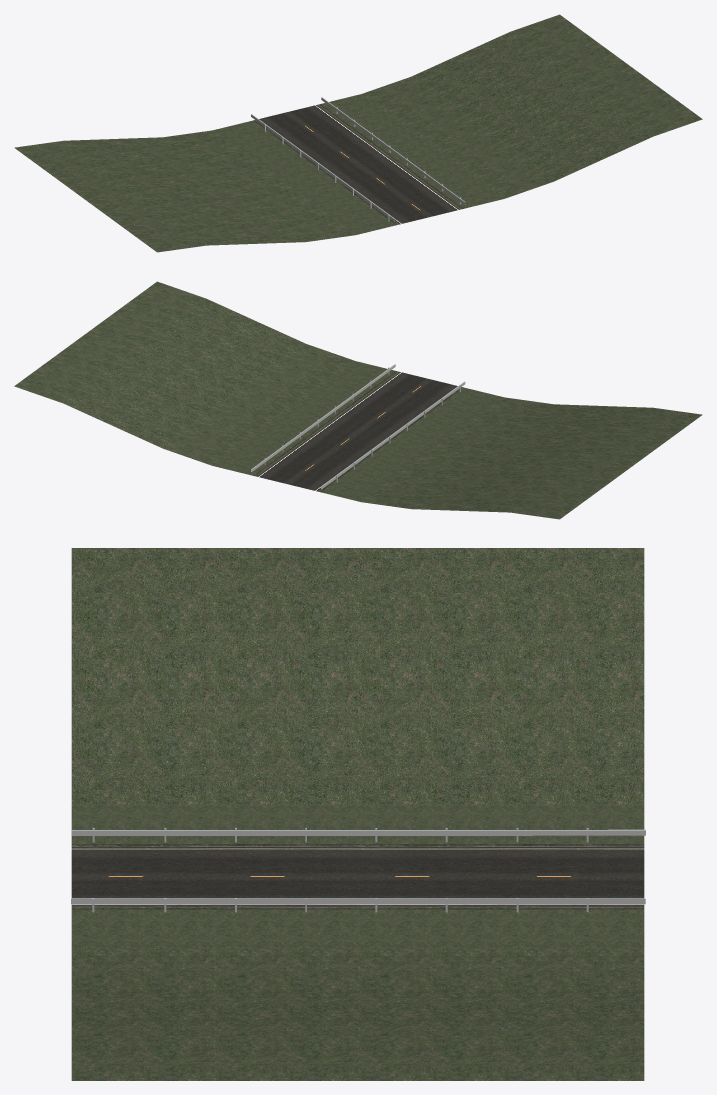
The picture shows the model from 3 angles, top to bottom: view 1: azimuth 30°, elevation 25°; view 2: azimuth 150°, elevation 25°; view 3: azimuth 270°, elevation 25°; orthographic projection. The views are drawn at different scales.
Parts seen in each view (by area): view 1: Grass, HighWay, GuardRail; view 2: Grass, HighWay, GuardRail; view 3: Grass, HighWay, GuardRail.
Boxes of the visible parts, box(x1,y1,x2,y2) form: Grass: box(14, 14, 702, 252); HighWay: box(253, 104, 463, 225); GuardRail: box(251, 97, 465, 221); Grass: box(14, 281, 702, 519); HighWay: box(253, 371, 463, 492); GuardRail: box(251, 364, 465, 489); Grass: box(71, 548, 644, 1080); HighWay: box(71, 844, 644, 909); GuardRail: box(71, 828, 645, 912).
Size of what is drawn, in the model's own units: 110 by 6.05 by 50.2.
